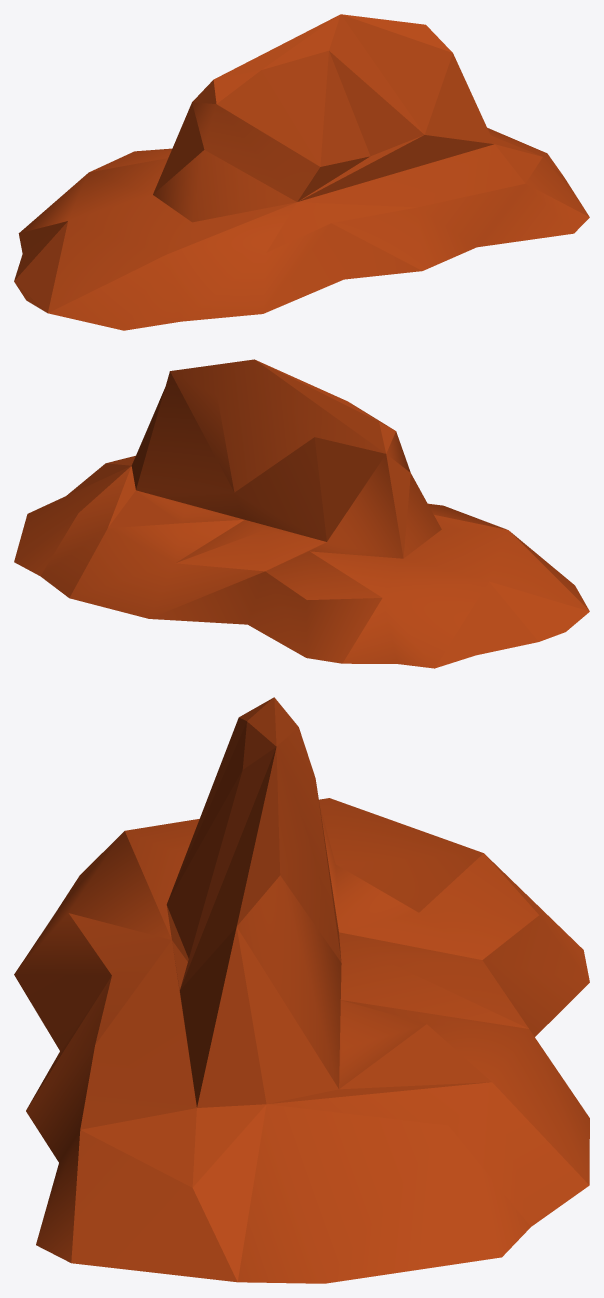
The model's file is Plateau_desert_005.glb.
3 views of the same model, one above another, from view 1: azimuth 30°, elevation 25°; view 2: azimuth 150°, elevation 25°; view 3: azimuth 270°, elevation 25° (orthographic). The views are drawn at different scales.
Visible parts, largest first — view 1: Plateau_desert_005; view 2: Plateau_desert_005; view 3: Plateau_desert_005.
Part boxes in pixels (x1=…): Plateau_desert_005: x1=14, y1=14, x2=589, y2=330; Plateau_desert_005: x1=14, y1=359, x2=589, y2=668; Plateau_desert_005: x1=14, y1=697, x2=589, y2=1283.
Bounding box in the file's own units: 53.4 × 19.69 × 28.53.
Materials: 1 (1 with a texture image).
